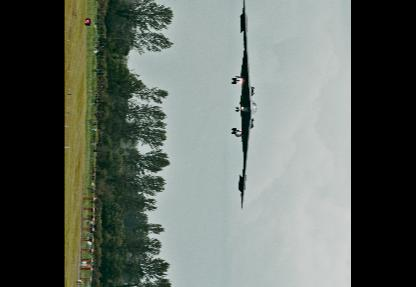B1: (231, 0, 258, 209)
